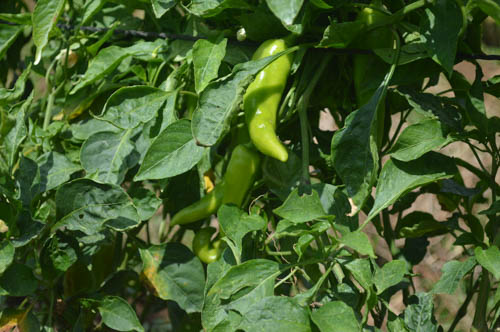ChiliPepper: (241, 39, 296, 160), (356, 7, 387, 148), (220, 146, 258, 217), (172, 191, 225, 228), (192, 227, 226, 264)
